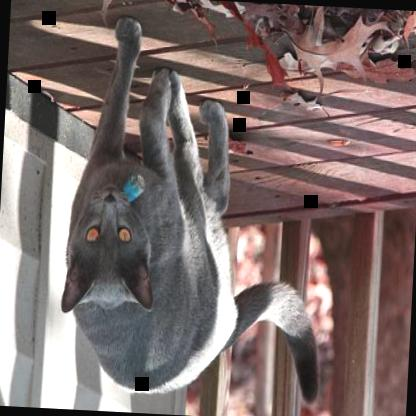cat: (55, 12, 336, 404)
